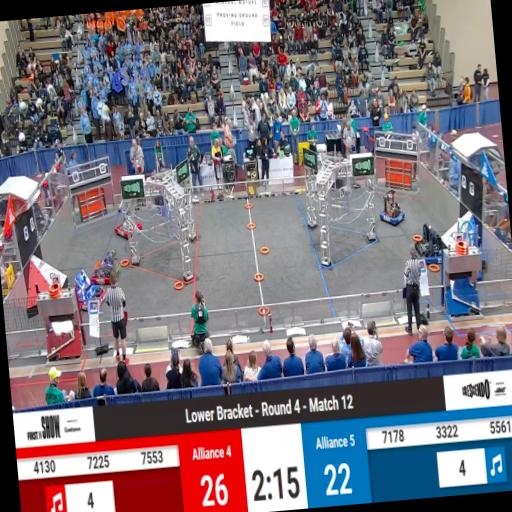robot: (408, 224, 450, 276), (74, 263, 117, 312), (90, 252, 122, 288), (378, 189, 406, 227), (112, 207, 142, 240)
